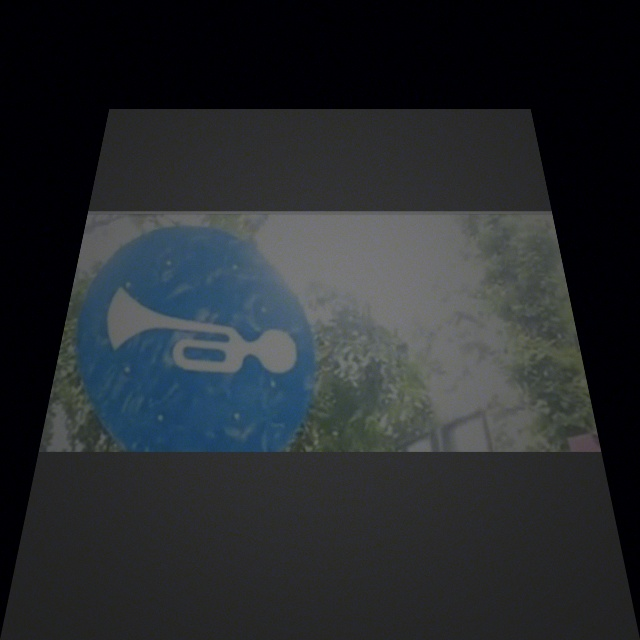Compulsory_Sound_Horn: (65, 229, 321, 444)
